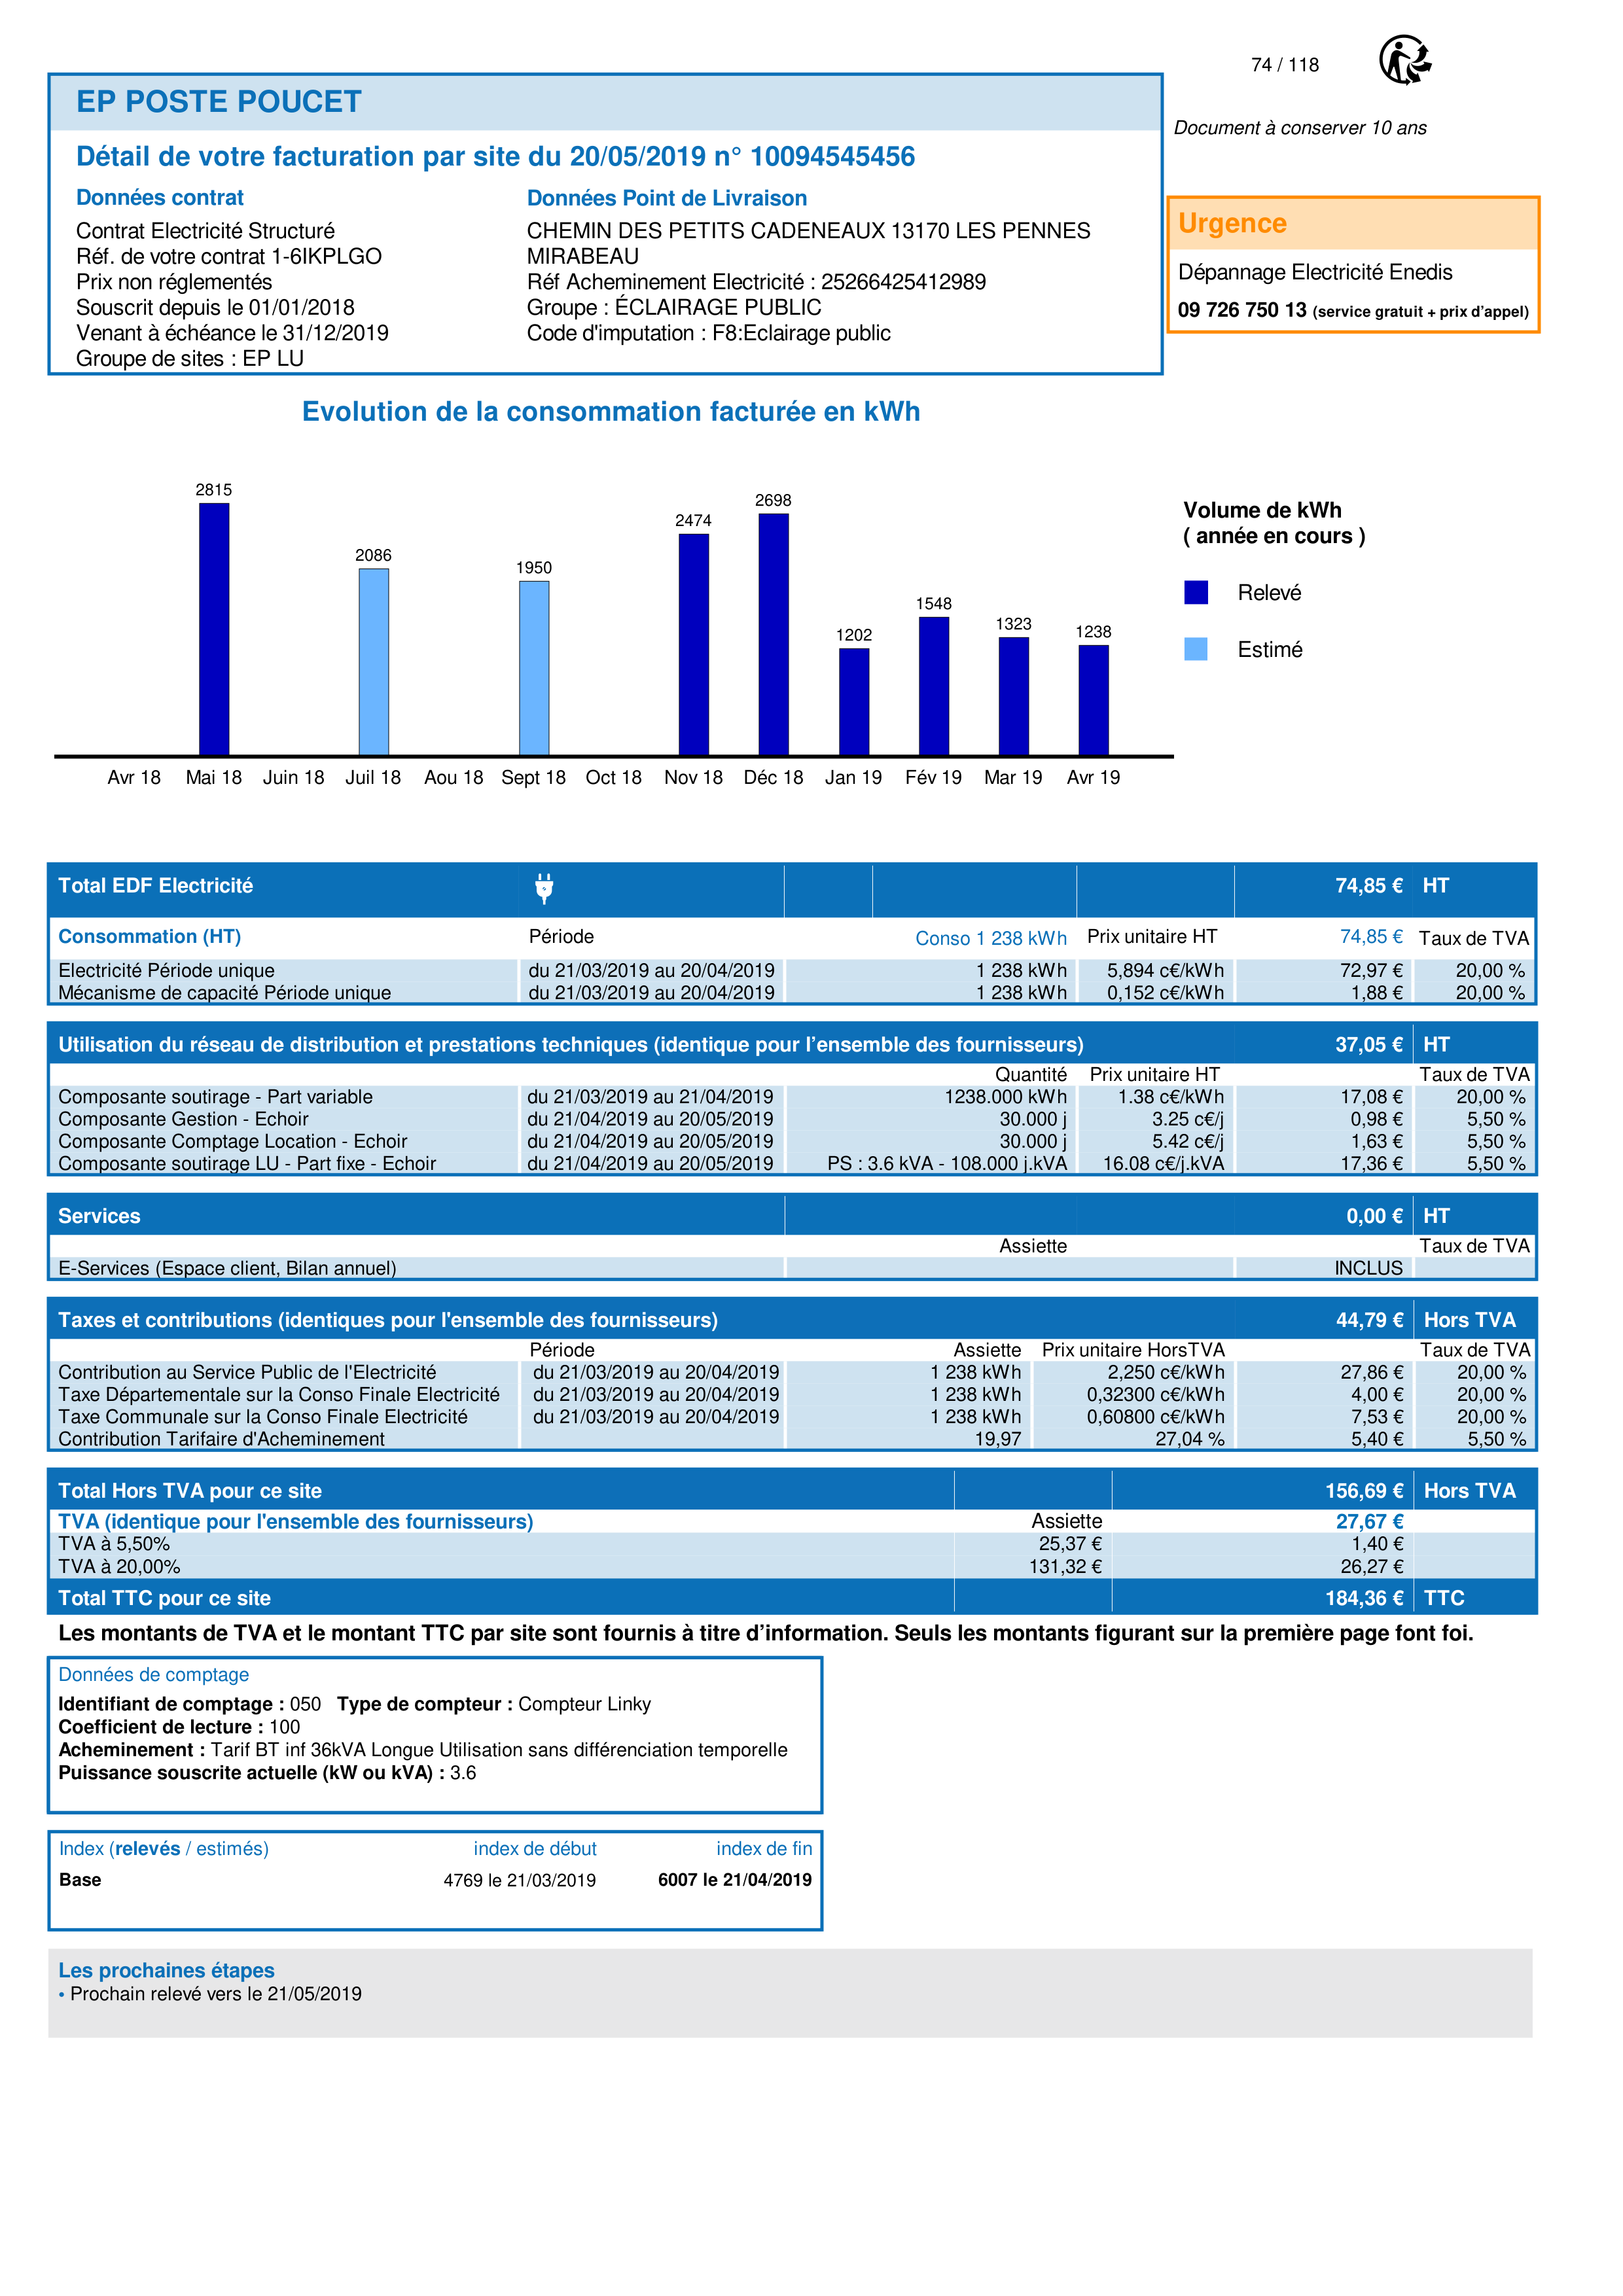area: (48, 1832, 819, 1933)
type_indicator: (50, 1831, 277, 1863)
